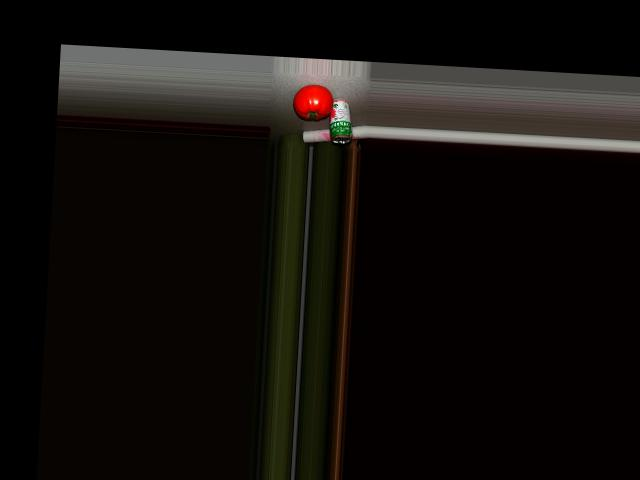tomato: (292, 83, 333, 119)
